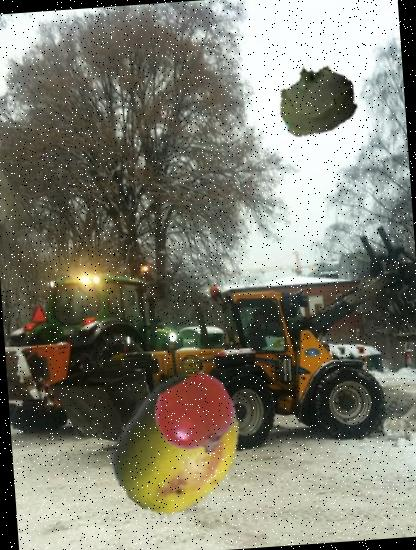Kohlrabi: (274, 56, 358, 140)
Pomelo: (102, 370, 255, 522)
Redcurrant: (154, 374, 240, 460)
